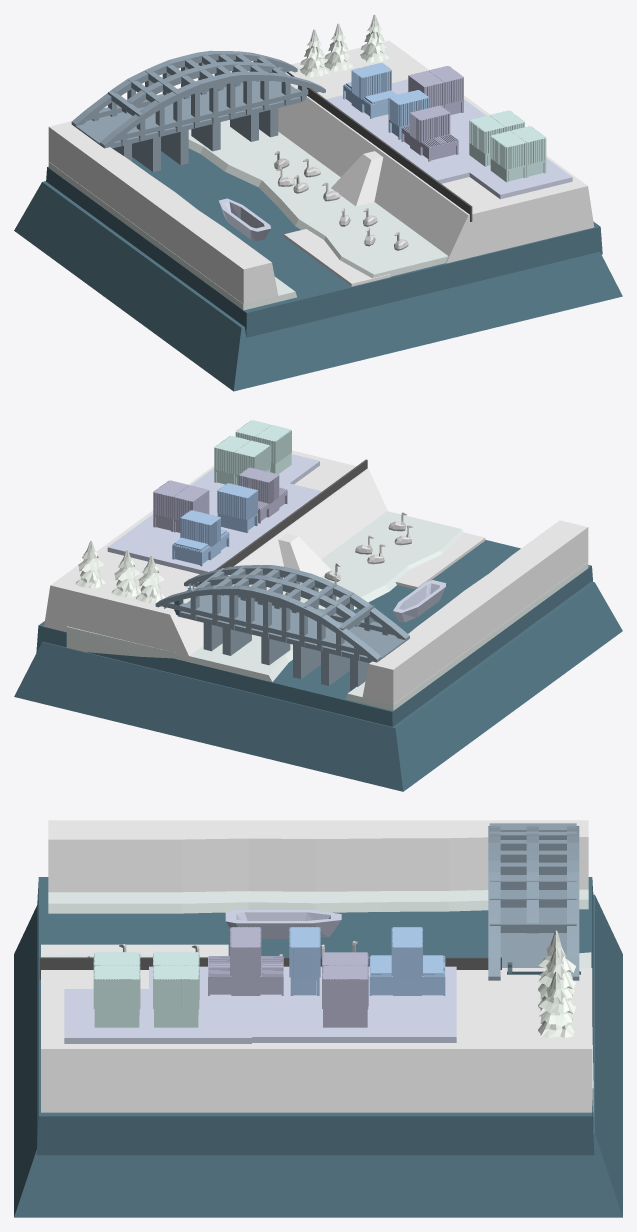
File: winter.glb
3 renders of one model, top to bottom at view 1: azimuth 30°, elevation 25°; view 2: azimuth 150°, elevation 25°; view 3: azimuth 270°, elevation 25°, orthographic. The views are drawn at different scales.
Visible parts, largest first — view 1: かわまち3D_Town_盛岡_for_テクスチャ.457, かわまち3D_Town_盛岡_for_テクスチャ.458, かわまち3D_Town_盛岡_for_テクスチャ.002, かわまち3D_Town_盛岡_for_テクスチャ.014, かわまち3D_Town_盛岡_for_テクスチャ.004, かわまち3D_Town_盛岡_for_テクスチャ.006, かわまち3D_Town_盛岡_for_テクスチャ.022, かわまち3D_Town_盛岡_for_テクスチャ.271, かわまち3D_Town_盛岡_for_テクスチャ.020, かわまち3D_Town_盛岡_for_テクスチャ.059, かわまち3D_Town_盛岡_for_テクスチャ.322, かわまち3D_Town_盛岡_for_テクスチャ.045 (+18 smaller); view 2: かわまち3D_Town_盛岡_for_テクスチャ.457, かわまち3D_Town_盛岡_for_テクスチャ.002, かわまち3D_Town_盛岡_for_テクスチャ.014, かわまち3D_Town_盛岡_for_テクスチャ.458, かわまち3D_Town_盛岡_for_テクスチャ.004, かわまち3D_Town_盛岡_for_テクスチャ.006, かわまち3D_Town_盛岡_for_テクスチャ.022, かわまち3D_Town_盛岡_for_テクスチャ.045, かわまち3D_Town_盛岡_for_テクスチャ.322, かわまち3D_Town_盛岡_for_テクスチャ.367, かわまち3D_Town_盛岡_for_テクスチャ.007, かわまち3D_Town_盛岡_for_テクスチャ.020 (+18 smaller); view 3: かわまち3D_Town_盛岡_for_テクスチャ.457, かわまち3D_Town_盛岡_for_テクスチャ.002, かわまち3D_Town_盛岡_for_テクスチャ.458, かわまち3D_Town_盛岡_for_テクスチャ.014, かわまち3D_Town_盛岡_for_テクスチャ.003, かわまち3D_Town_盛岡_for_テクスチャ.006, かわまち3D_Town_盛岡_for_テクスチャ.005, かわまち3D_Town_盛岡_for_テクスチャ.322, かわまち3D_Town_盛岡_for_テクスチャ.059, かわまち3D_Town_盛岡_for_テクスチャ.271, かわまち3D_Town_盛岡_for_テクスチャ.007, かわまち3D_Town_盛岡_for_テクスチャ.367 (+19 smaller).
Part boxes in pixels (box(x1,y1,x2,y2)): かわまち3D_Town_盛岡_for_テクスチャ.457: box(14, 181, 622, 391); かわまち3D_Town_盛岡_for_テクスチャ.458: box(46, 148, 602, 337); かわまち3D_Town_盛岡_for_テクスチャ.002: box(278, 40, 594, 263); かわまち3D_Town_盛岡_for_テクスチャ.014: box(48, 121, 278, 306); かわまち3D_Town_盛岡_for_テクスチャ.004: box(188, 120, 448, 278); かわまち3D_Town_盛岡_for_テクスチャ.006: box(326, 79, 490, 183); かわまち3D_Town_盛岡_for_テクスチャ.022: box(72, 81, 303, 148); かわまち3D_Town_盛岡_for_テクスチャ.271: box(490, 126, 546, 182); かわまち3D_Town_盛岡_for_テクスチャ.020: box(100, 71, 325, 148); かわまち3D_Town_盛岡_for_テクスチャ.059: box(401, 105, 458, 161); かわまち3D_Town_盛岡_for_テクスチャ.322: box(343, 63, 396, 118); かわまち3D_Town_盛岡_for_テクスチャ.045: box(71, 50, 297, 125); かわまち3D_Town_盛岡_for_テクスチャ.457: box(14, 581, 622, 791); かわまち3D_Town_盛岡_for_テクスチャ.002: box(44, 450, 387, 662); かわまち3D_Town_盛岡_for_テクスチャ.014: box(362, 520, 588, 704); かわまち3D_Town_盛岡_for_テクスチャ.458: box(36, 540, 592, 726); かわまち3D_Town_盛岡_for_テクスチャ.004: box(66, 511, 463, 682); かわまち3D_Town_盛岡_for_テクスチャ.006: box(107, 482, 321, 574); かわまち3D_Town_盛岡_for_テクスチャ.022: box(177, 595, 408, 663); かわまち3D_Town_盛岡_for_テクスチャ.045: box(155, 585, 381, 662); かわまち3D_Town_盛岡_for_テクスチャ.322: box(172, 510, 229, 566); かわまち3D_Town_盛岡_for_テクスチャ.367: box(153, 480, 209, 532); かわまち3D_Town_盛岡_for_テクスチャ.007: box(214, 436, 270, 485); かわまち3D_Town_盛岡_for_テクスチャ.020: box(184, 565, 409, 640); かわまち3D_Town_盛岡_for_テクスチャ.457: box(14, 894, 622, 1217); かわまち3D_Town_盛岡_for_テクスチャ.002: box(41, 968, 592, 1112); かわまち3D_Town_盛岡_for_テクスチャ.458: box(36, 877, 594, 1155); かわまち3D_Town_盛岡_for_テクスチャ.014: box(48, 820, 588, 892); かわまち3D_Town_盛岡_for_テクスチャ.003: box(48, 889, 588, 913); かわまち3D_Town_盛岡_for_テクスチャ.006: box(149, 966, 456, 1042); かわまち3D_Town_盛岡_for_テクスチャ.005: box(64, 989, 251, 1043); かわまち3D_Town_盛岡_for_テクスチャ.322: box(369, 927, 445, 995); かわまち3D_Town_盛岡_for_テクスチャ.059: box(208, 927, 283, 995); かわまち3D_Town_盛岡_for_テクスチャ.271: box(93, 951, 140, 1027); かわまち3D_Town_盛岡_for_テクスチャ.007: box(153, 951, 199, 1027); かわまち3D_Town_盛岡_for_テクスチャ.367: box(322, 952, 368, 1027).
Size of the model in its own units: 6.64 by 2.47 by 6.49.
